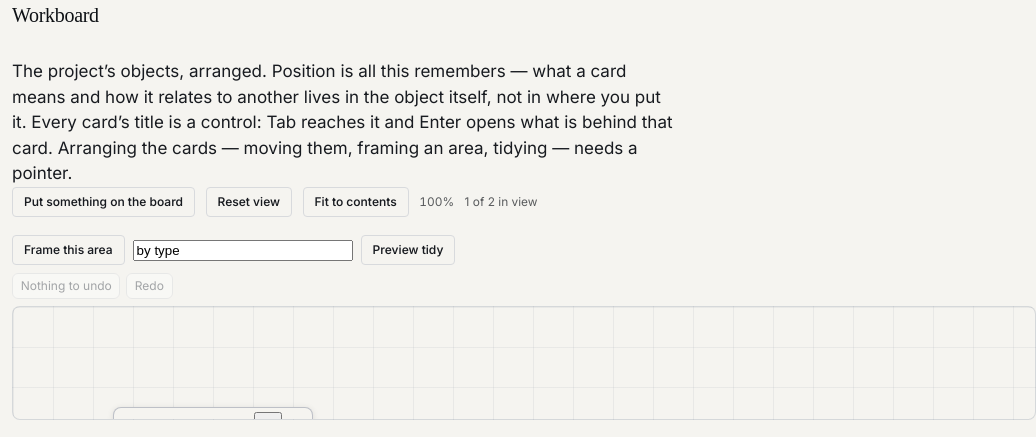
it: putting something on the board › shows the new card without waiting for a reload
Click the button "Put something on the board" at (104, 202), box [12, 186, 195, 216]
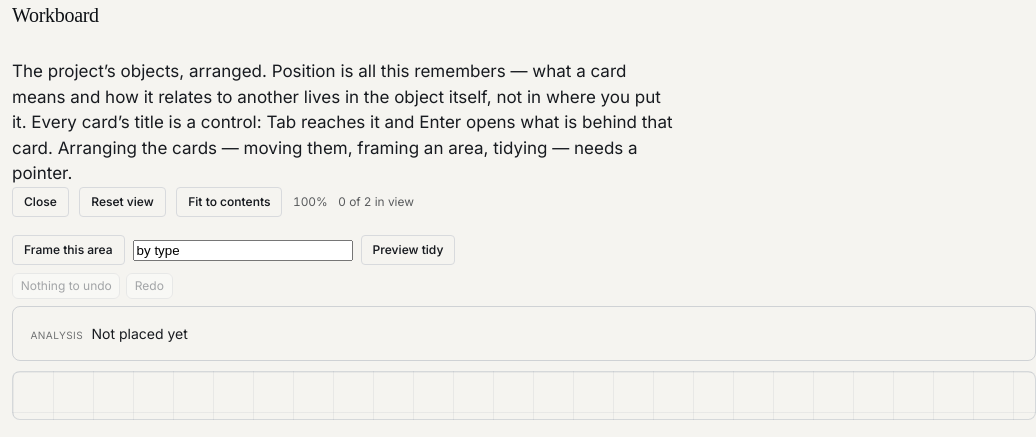
Click the text "Not placed yet" at (140, 333), box [92, 323, 188, 344]
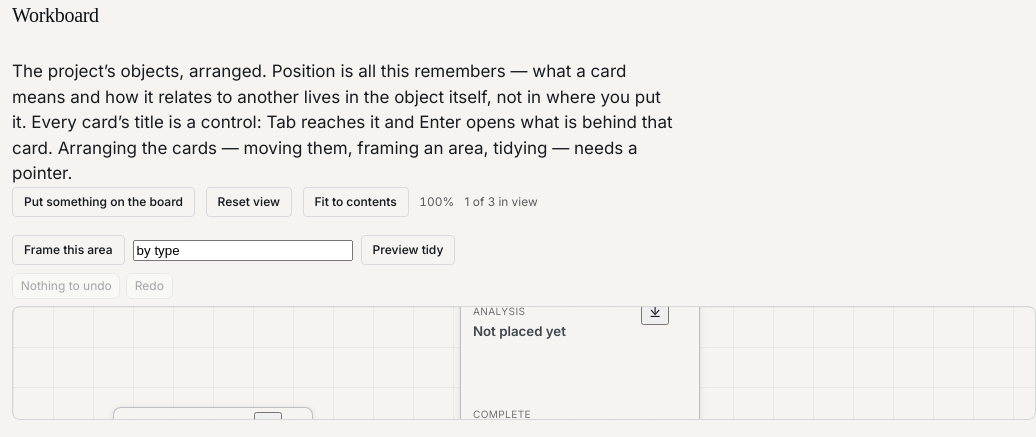
Expected: the element showing "analysis Not placed yet complete ⤓" is shown, [460, 306, 700, 420]
